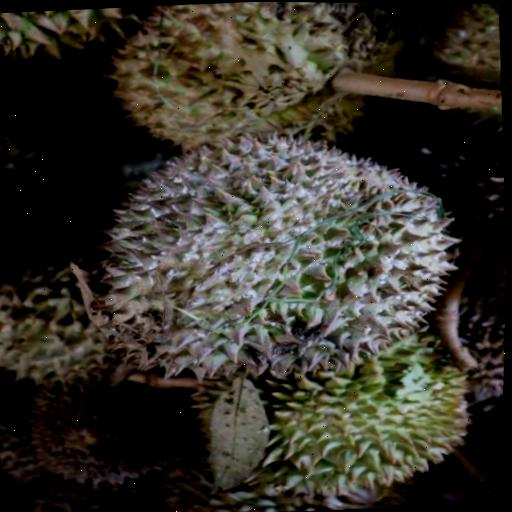mold: (0, 86, 510, 431)
